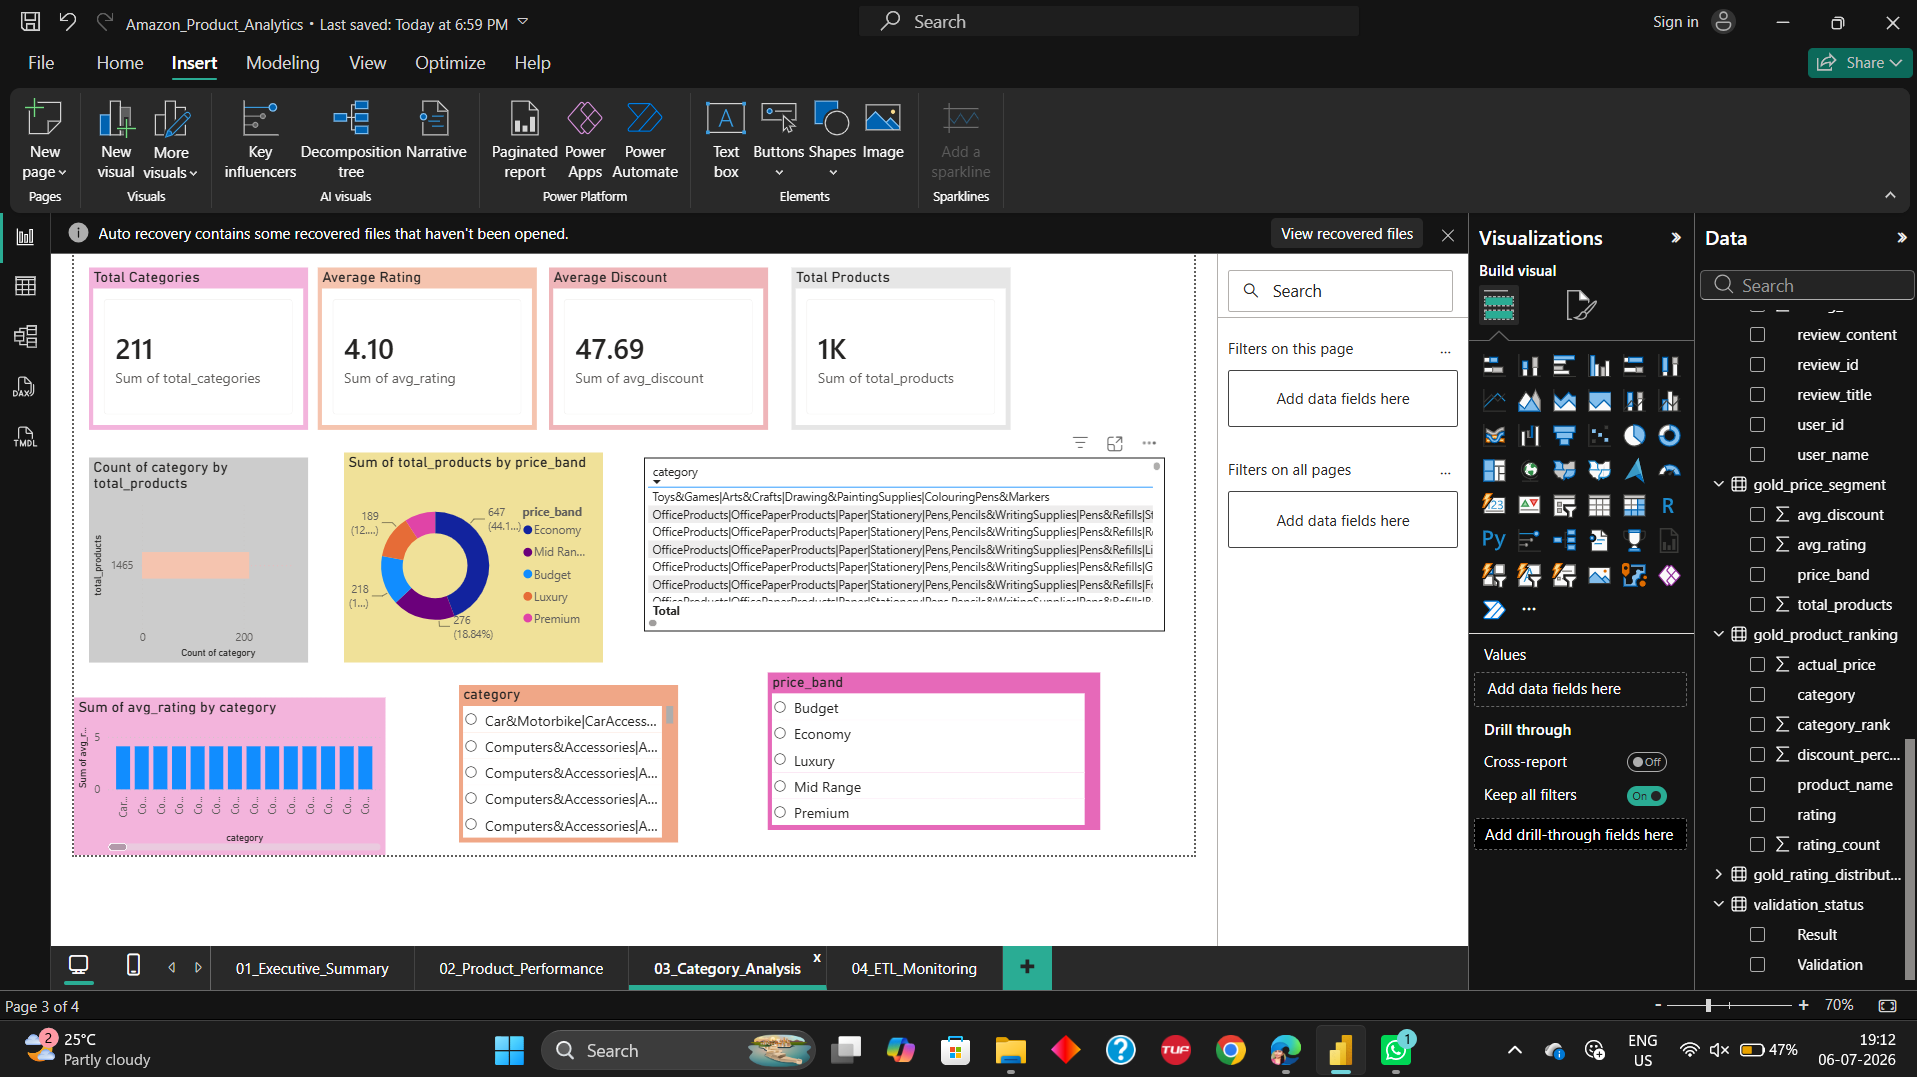

The dashboard page shown, as its layout file describes it:
{"tool":"powerbi","page":{"name":"03_Category_Analysis","canvas":[1280,720],"ordinal":2},"visuals":[{"type":"cardVisual","title":"Total Categories","fields":{"Data":["Sum(gold_dashboard_kpi.total_categories)"]},"box":[17.1,48.6,250,185.7],"z":0},{"type":"cardVisual","title":"Average Rating","fields":{"Data":["Sum(gold_dashboard_kpi.avg_rating)"]},"box":[278.6,48.6,250,185.7],"z":1},{"type":"cardVisual","title":"Average Discount","fields":{"Data":["Sum(gold_dashboard_kpi.avg_discount)"]},"box":[542.9,48.6,250,185.7],"z":2},{"type":"cardVisual","title":"Total Products","fields":{"Data":["Sum(gold_dashboard_kpi.total_products)"]},"box":[820,48.6,250,185.7],"z":3},{"type":"clusteredBarChart","fields":{"Y":["CountNonNull(gold_category_summary.category)"],"Category":["gold_dashboard_kpi.total_products"]},"box":[17.1,265.7,250,234.3],"z":4},{"type":"clusteredColumnChart","fields":{"Category":["gold_discount_analysis.category"],"Y":["Sum(gold_dashboard_kpi.avg_rating)"]},"box":[0,540,355.7,180],"z":5},{"type":"donutChart","fields":{"Category":["gold_price_segment.price_band"],"Y":["Sum(gold_price_segment.total_products)"]},"box":[308.6,260,295.7,240],"z":6},{"type":"pivotTable","fields":{"Rows":["gold_product_ranking.category"],"Values":["Sum(gold_price_segment.total_products)","Sum(gold_price_segment.avg_rating)","Sum(gold_price_segment.avg_discount)"]},"box":[651.4,265.7,595.7,198.6],"z":7},{"type":"listSlicer","fields":{"Values":["gold_product_ranking.category"]},"box":[440,525.7,250,180],"z":8},{"type":"listSlicer","fields":{"Values":["gold_price_segment.price_band"]},"box":[792.9,511.4,380,180],"z":9}]}

Visuals, with their boxes on the page's 1280x720 design canvas (x1, y1, x2, y2). These are canvas units, not pixel positions in the 1917x1077 screenshot, which may show the page scaled, cropped or inside an application window:
"Total Categories" cardVisual: 17,49,267,234
"Average Rating" cardVisual: 279,49,529,234
"Average Discount" cardVisual: 543,49,793,234
"Total Products" cardVisual: 820,49,1070,234
clusteredBarChart - CountNonNull(gold_category_summary.category) x gold_dashboard_kpi.total_products: 17,266,267,500
clusteredColumnChart - gold_discount_analysis.category x Sum(gold_dashboard_kpi.avg_rating): 0,540,356,720
donutChart - gold_price_segment.price_band x Sum(gold_price_segment.total_products): 309,260,604,500
pivotTable - gold_product_ranking.category x Sum(gold_price_segment.total_products): 651,266,1247,464
listSlicer - gold_product_ranking.category: 440,526,690,706
listSlicer - gold_price_segment.price_band: 793,511,1173,691
